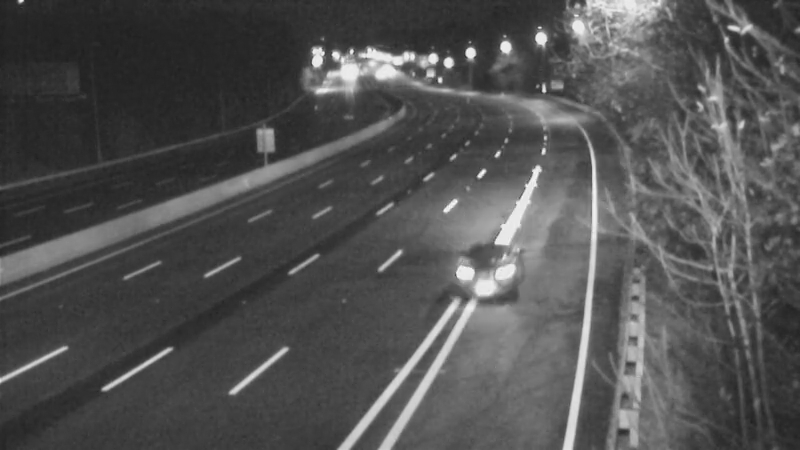vehicle: (446, 222, 526, 302)
